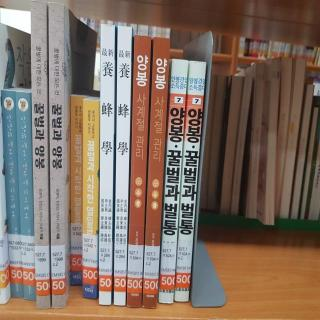book-spine: (172, 61, 207, 302), (140, 37, 171, 309), (156, 59, 188, 304), (125, 35, 151, 308), (31, 0, 50, 310), (111, 26, 132, 306), (97, 24, 115, 305), (49, 2, 65, 307), (1, 89, 24, 299), (15, 91, 36, 301), (81, 100, 99, 300), (68, 96, 86, 284), (174, 241, 193, 289), (142, 245, 160, 294), (159, 242, 177, 290), (127, 244, 143, 293), (82, 233, 97, 285), (21, 235, 36, 286), (8, 233, 23, 284), (51, 245, 65, 294), (35, 246, 49, 295), (113, 244, 127, 291), (99, 243, 112, 292), (71, 223, 83, 271), (0, 237, 5, 288)
